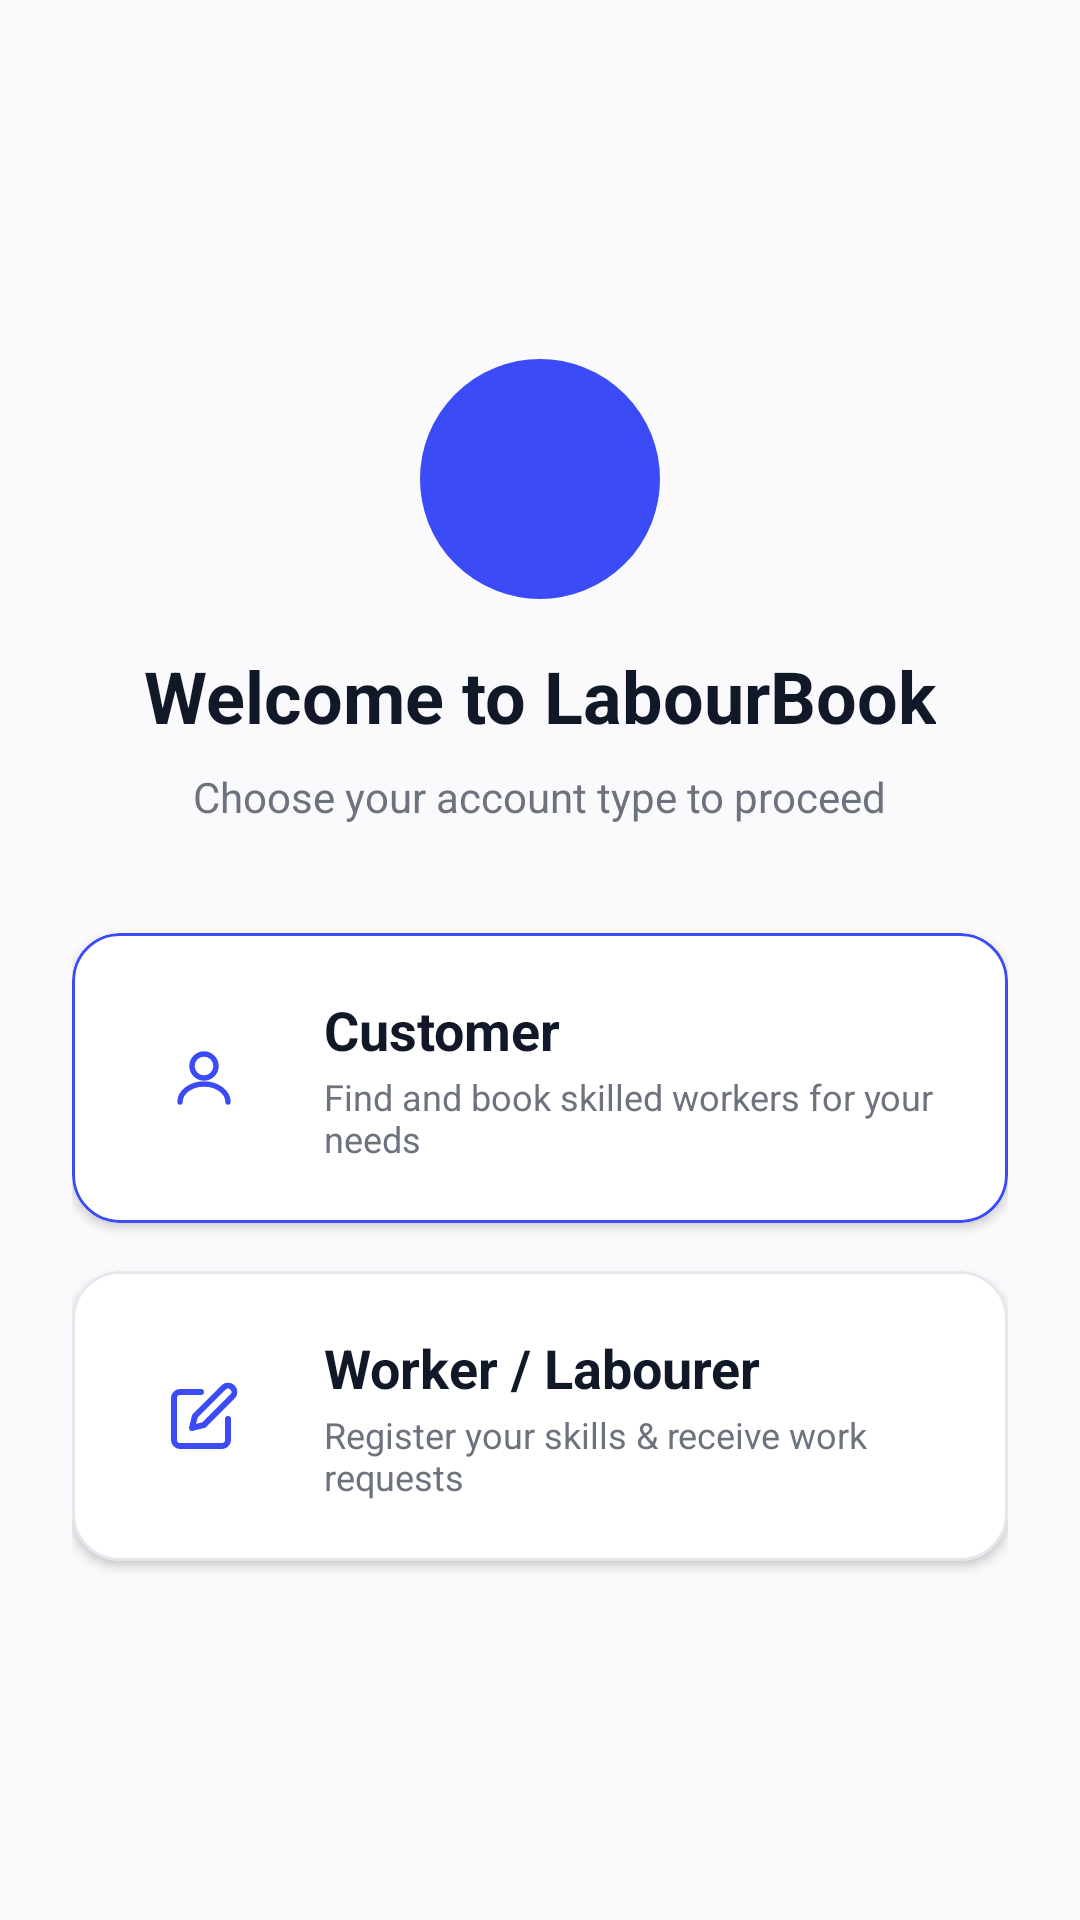

Icons on this 1080w x 1920h Android screen, each with the point to tap as (x=x, y=y):
edit: (x=204, y=1415)
person: (x=204, y=1078)
